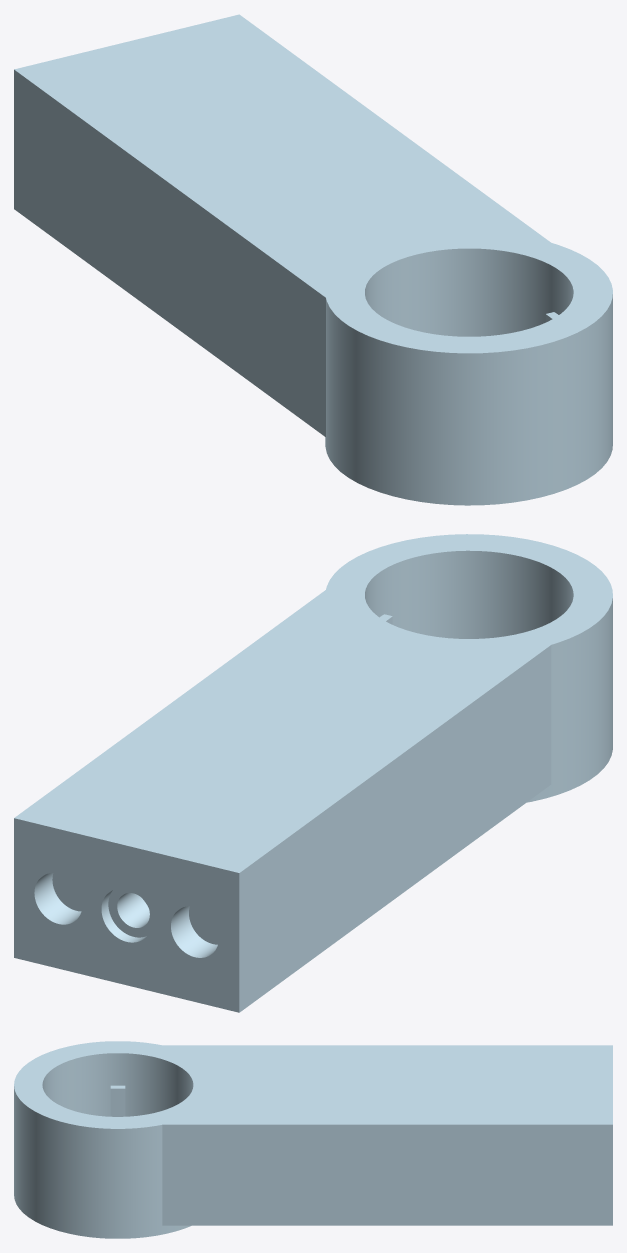
File: SquarePost.gltf
3 views of the same model, one above another, from view 1: azimuth 30°, elevation 25°; view 2: azimuth 150°, elevation 25°; view 3: azimuth 270°, elevation 25° (orthographic). The views are drawn at different scales.
Parts seen in each view (by area): view 1: Part 1; view 2: Part 1; view 3: Part 1.
Part boxes in pixels (box(x1,y1,x2,y2)): Part 1: box(14, 14, 612, 505); Part 1: box(14, 534, 612, 1012); Part 1: box(14, 1041, 612, 1238).
Bounding box in the file's own units: 0.0419 × 0.0245 × 0.121.
